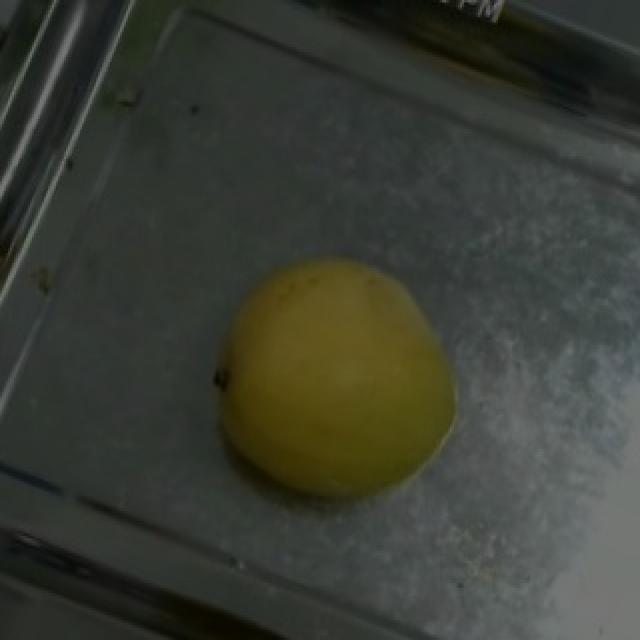fruit: (178, 201, 514, 543)
